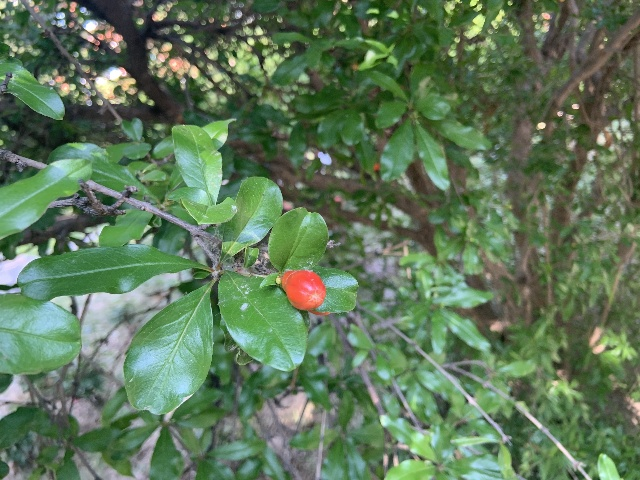bud: (281, 269, 326, 311)
